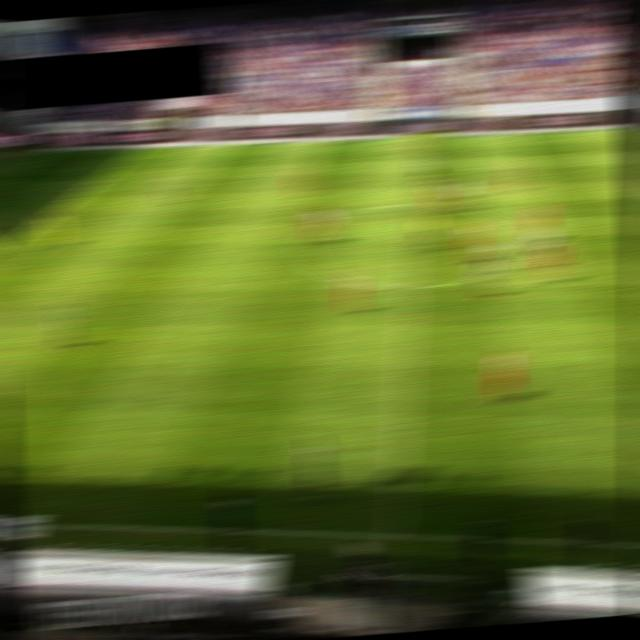bigarea_top_inner: (84, 175, 108, 186)
corner: (7, 149, 32, 160)
halfcircle_bottom: (397, 280, 422, 292)
halfcircle_top: (403, 197, 427, 208)
midline_bottom_intersection: (382, 527, 408, 543)
midline_top_intersection: (406, 133, 431, 144)
top_arc_area_intersection: (34, 213, 58, 224)
